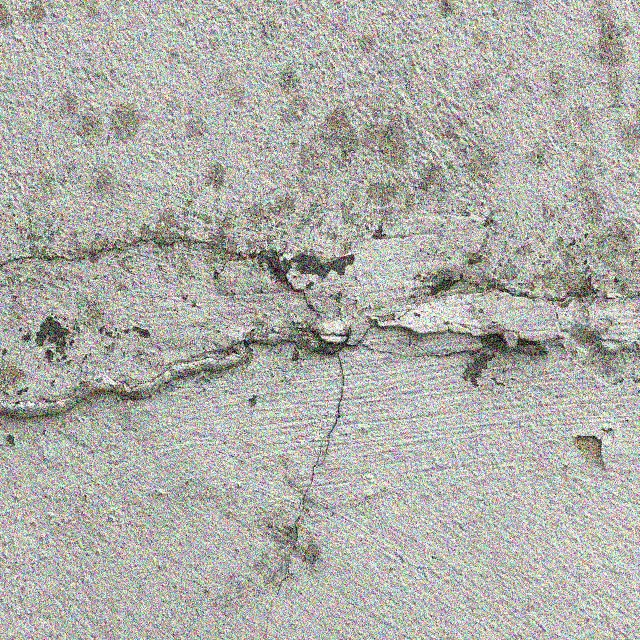SurfaceCrack: (0, 200, 634, 449)
